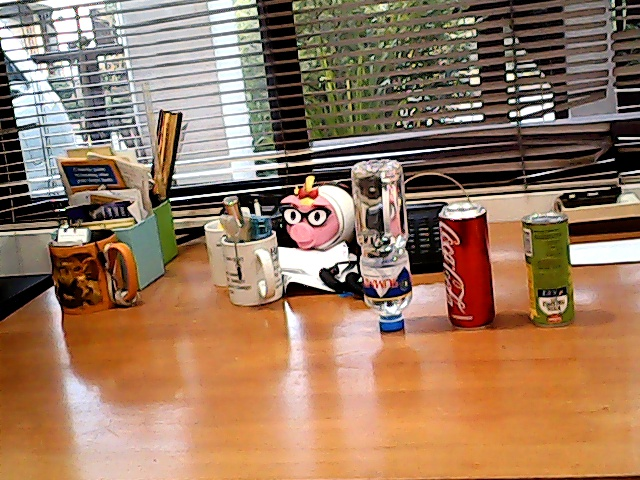Cola: (424, 192, 511, 339)
Pine Juice: (511, 203, 594, 330)
Summit Water: (341, 148, 428, 343)
